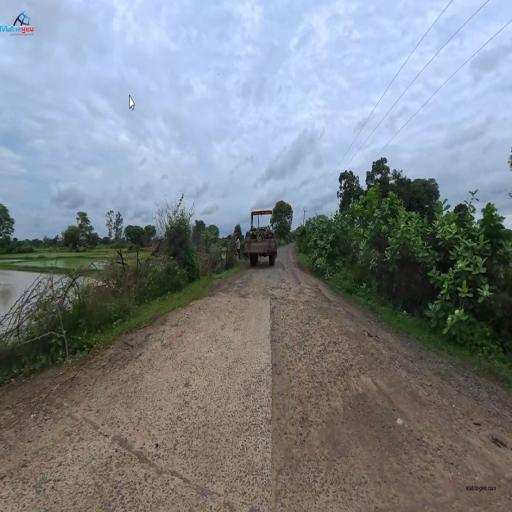longitudinal_crack: (84, 416, 187, 484), (265, 294, 279, 460)
